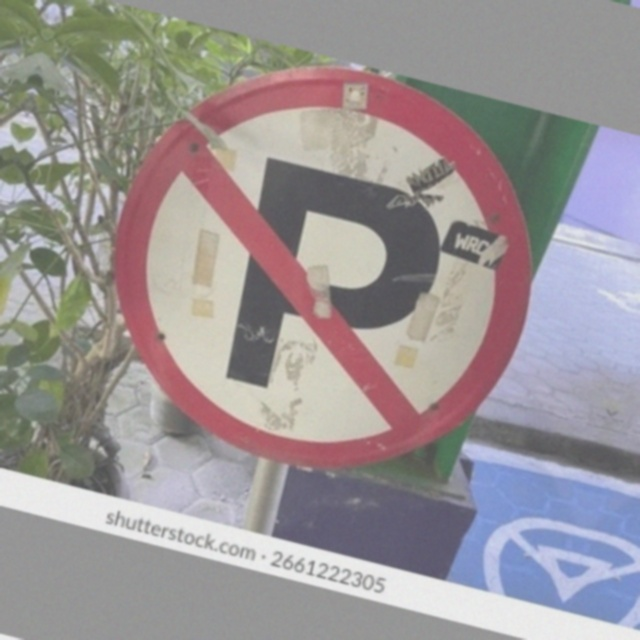No_Parking: (79, 23, 567, 497)
